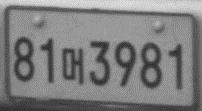1: (166, 42, 183, 91), (39, 36, 55, 83)
3: (89, 39, 110, 86)
8: (139, 42, 163, 89), (13, 36, 35, 82)
9: (112, 39, 137, 88)
머: (60, 46, 84, 85)
